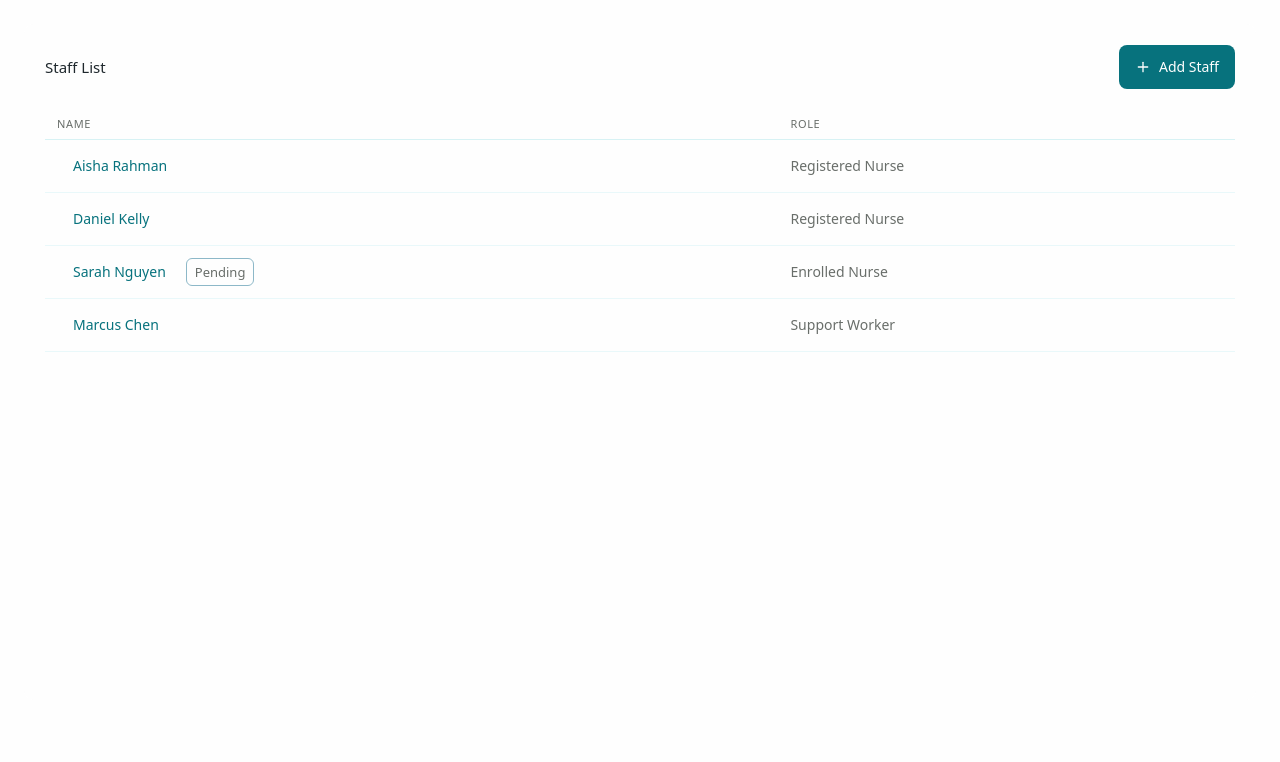
Test: [F0-24][AC-05] Resend invite in the staff panel (FD-04) › [F0-24][AC-05] shows the error message when the resend is refused
The image size is (1280, 762).
What coordinates should you click on to do the following:
click the button with aria-label "Edit Sarah Nguyen"
I would click on:
 (119, 272)
Its box is [57,250,182,294].
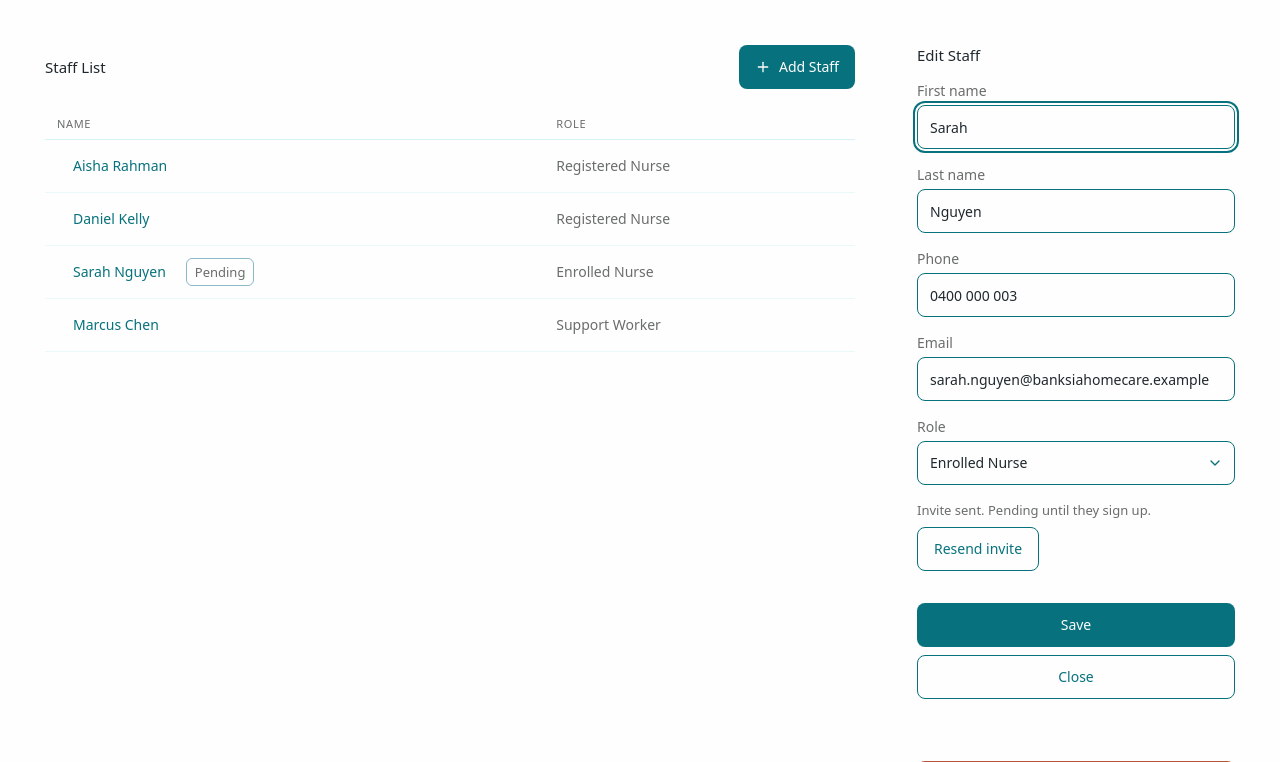
What coordinates should you click on to do the following:
click the button "Resend invite"
I would click on:
 (978, 549)
Its box is [917,527,1039,571].
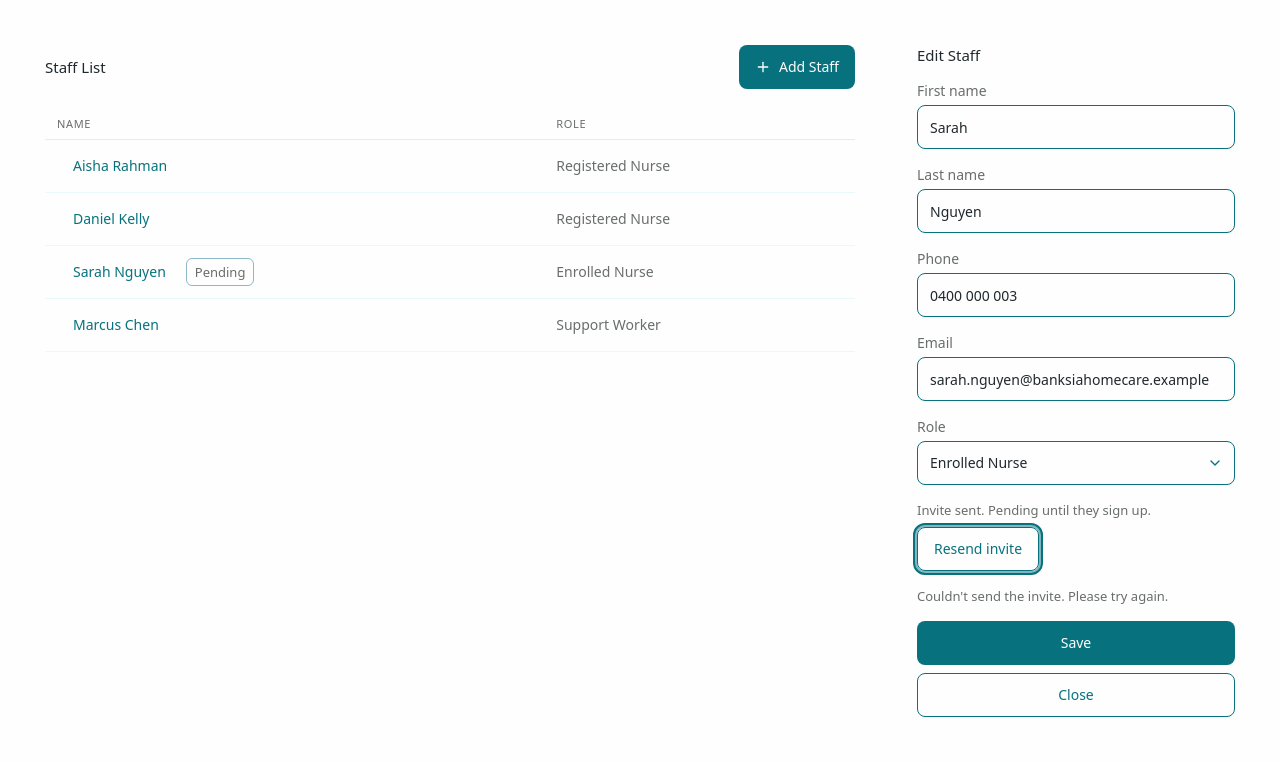
Expected: the text "Couldn't send the invite. Please try again." is shown, [917,587,1168,605]
